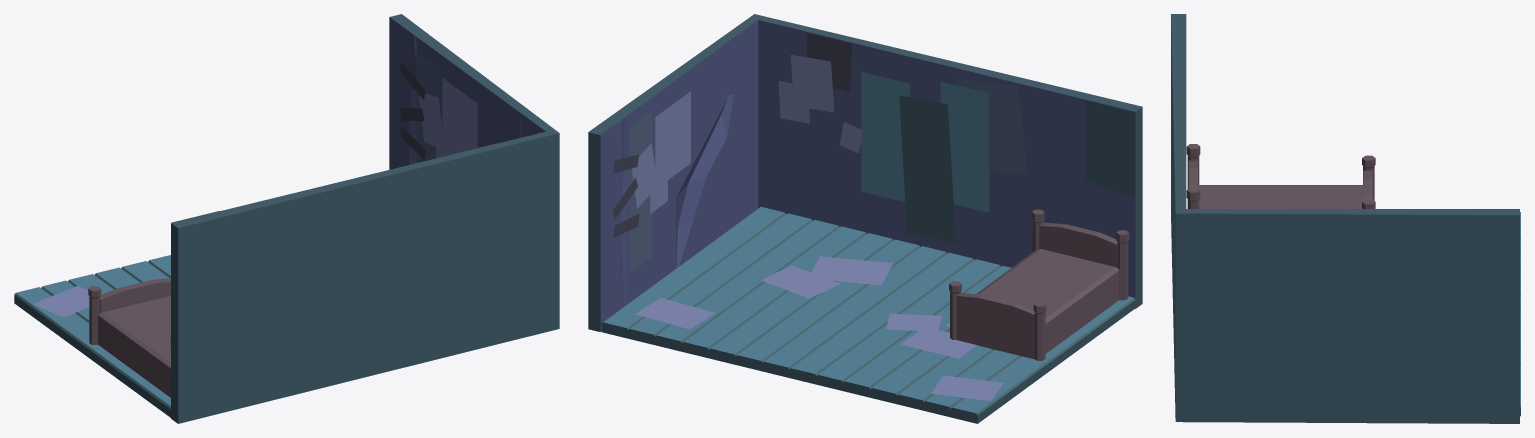
The model's file is oldseamanroom1.fbx.
The picture shows the model from 3 angles, left to right: view 1: azimuth 30°, elevation 25°; view 2: azimuth 150°, elevation 25°; view 3: azimuth 270°, elevation 25°; orthographic projection. The views are drawn at different scales.
Visible parts, largest first — view 1: oldseamanroom1; view 2: oldseamanroom1; view 3: oldseamanroom1.
Part boxes in pixels (box(x1,y1,x2,y2)): oldseamanroom1: box(14, 14, 559, 423); oldseamanroom1: box(588, 14, 1142, 423); oldseamanroom1: box(1171, 14, 1520, 423).
Bounding box in the file's own units: 598 × 289 × 439.
